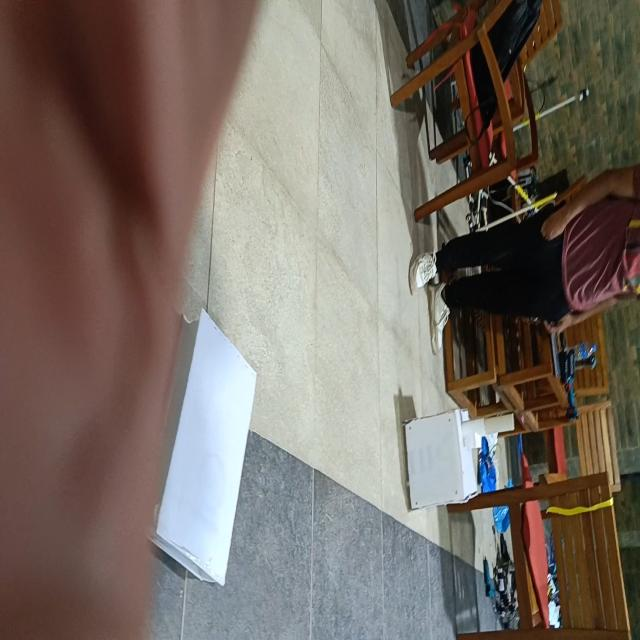Cube: (402, 407, 477, 510)
Cuboid: (147, 306, 258, 587)
